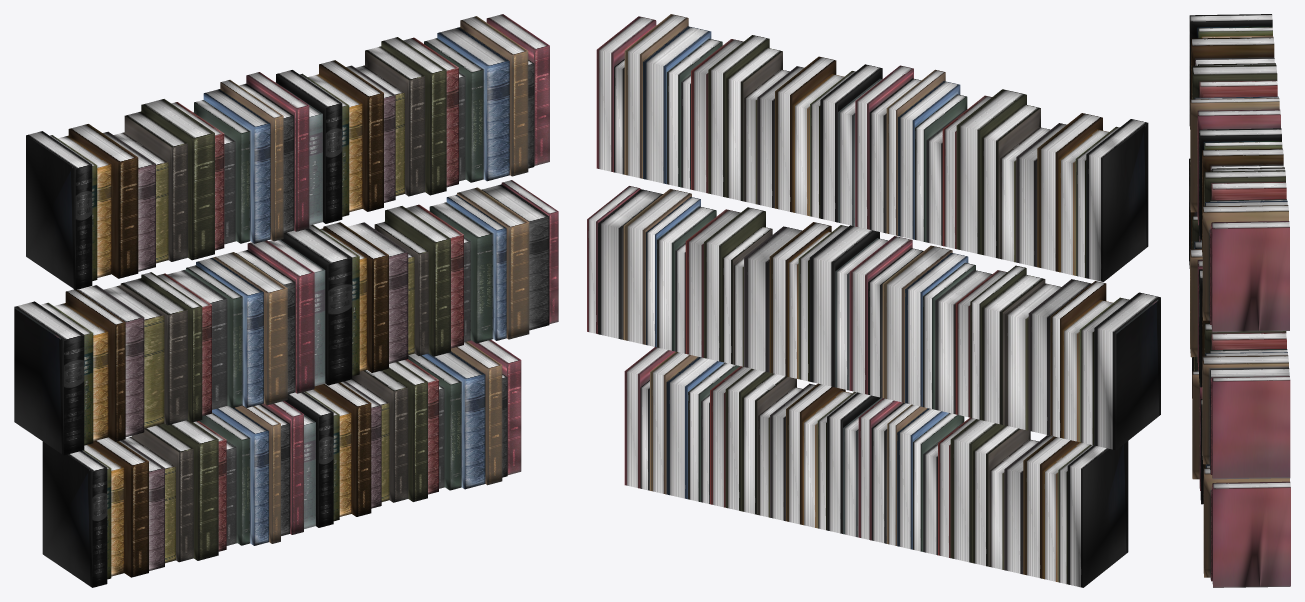
The model's file is books.fbx.
3 views of the same model, side by side, from view 1: azimuth 30°, elevation 25°; view 2: azimuth 150°, elevation 25°; view 3: azimuth 270°, elevation 25° (orthographic). The views are drawn at different scales.
Parts seen in each view (by area): view 1: books_mid, books_top, books_btm; view 2: books_mid, books_top, books_btm; view 3: books_top, books_mid, books_btm.
Part boxes in pixels (x1,y1,x2,y2): books_mid: [14, 180, 558, 455]; books_top: [26, 14, 549, 289]; books_btm: [42, 340, 521, 587]; books_mid: [587, 186, 1160, 450]; books_top: [596, 14, 1148, 281]; books_btm: [624, 347, 1128, 587]; books_top: [1189, 14, 1289, 332]; books_mid: [1189, 158, 1290, 479]; books_btm: [1192, 357, 1290, 587].
Bounding box in the file's own units: 333 × 266 × 65.11.
